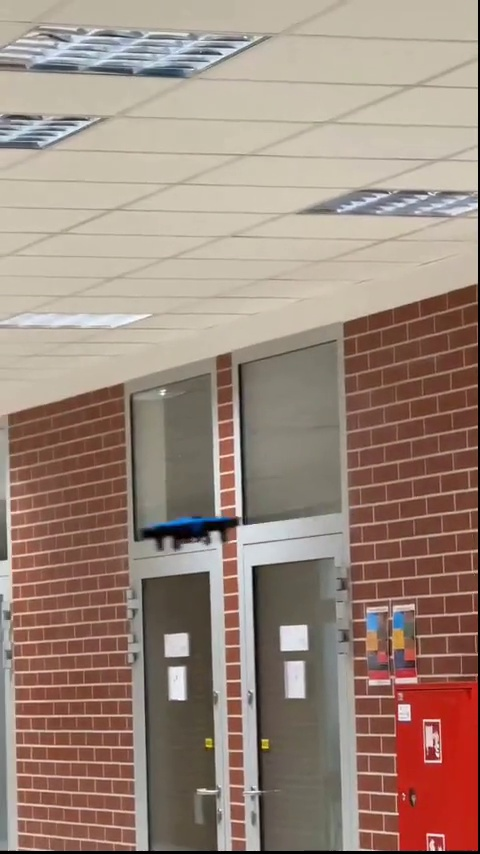drone: (134, 510, 243, 554)
